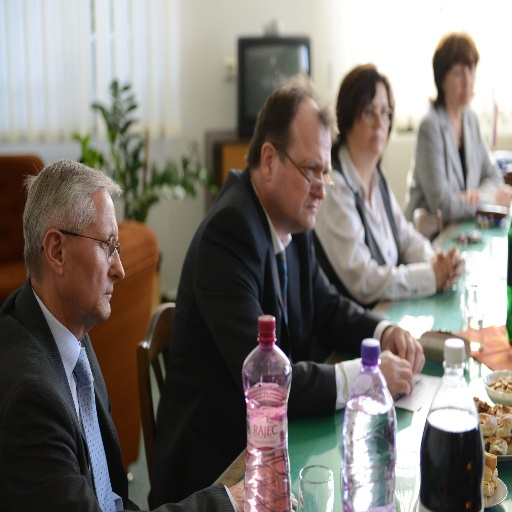hand: (228, 477, 298, 511), (380, 324, 425, 373), (371, 349, 413, 398), (442, 248, 464, 290), (460, 188, 479, 206), (494, 186, 511, 205)
